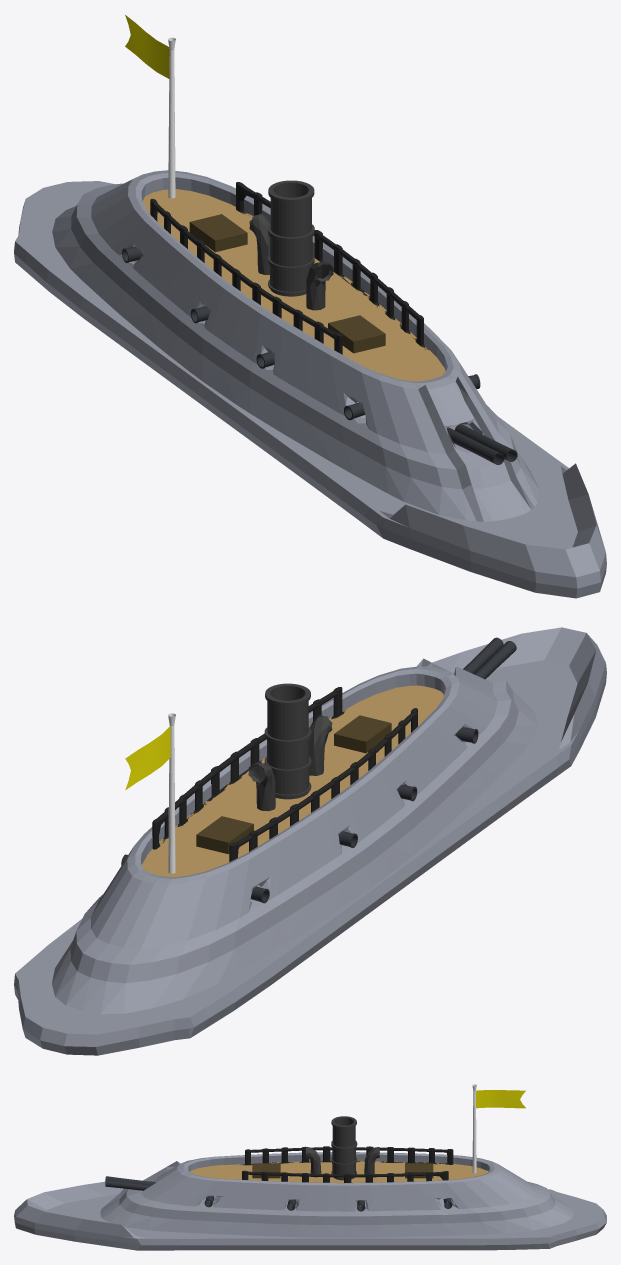
The model's file is Ironclad.glb.
3 renders of one model, top to bottom at view 1: azimuth 30°, elevation 25°; view 2: azimuth 150°, elevation 25°; view 3: azimuth 270°, elevation 25°, orthographic. The views are drawn at different scales.
Parts seen in each view (by area): view 1: Ironclad; view 2: Ironclad; view 3: Ironclad.
Boxes of the visible parts, x1=… form: Ironclad: x1=14, y1=15, x2=606, y2=598; Ironclad: x1=14, y1=627, x2=606, y2=1055; Ironclad: x1=14, y1=1084, x2=606, y2=1250.
Size of the model in its own units: 0.7974 by 0.9867 by 3.8.
